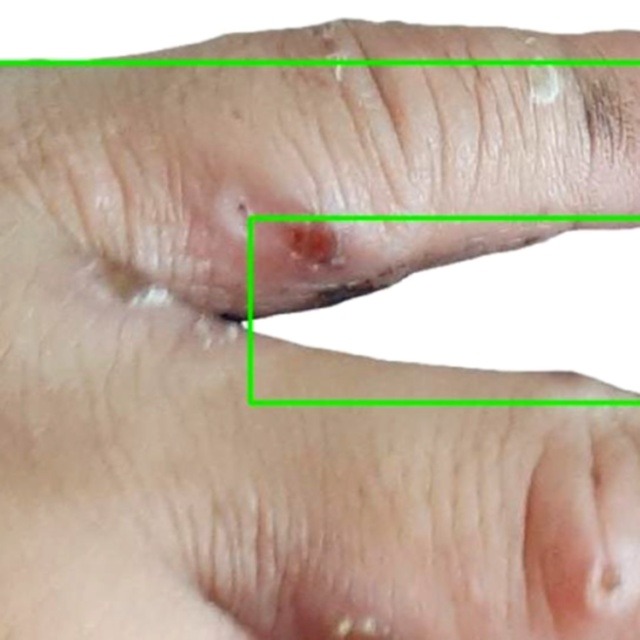Scabies: (250, 217, 639, 402)
